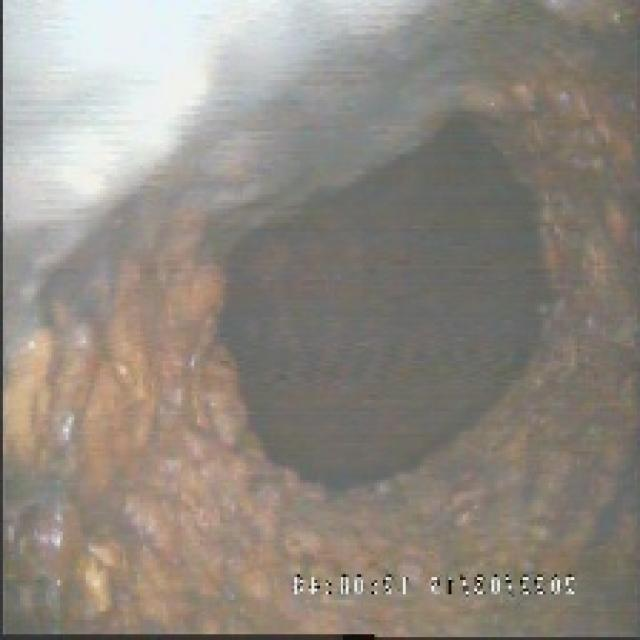encrustation: (203, 114, 554, 486)
